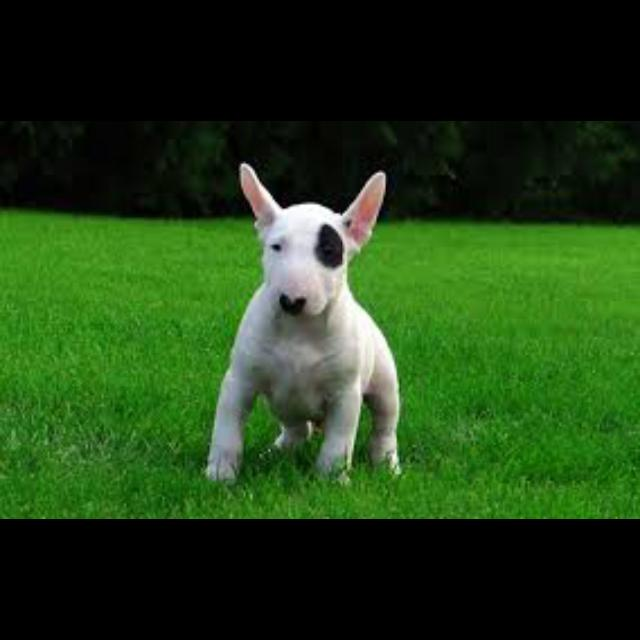bullterrier: (205, 163, 403, 488)
